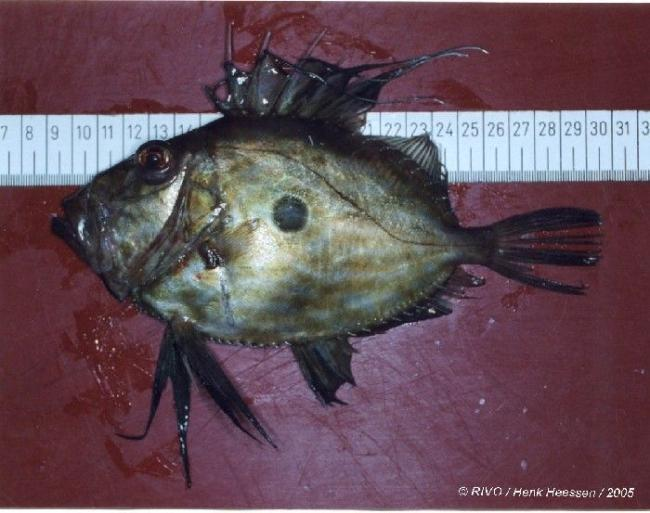fish: (50, 22, 605, 492)
